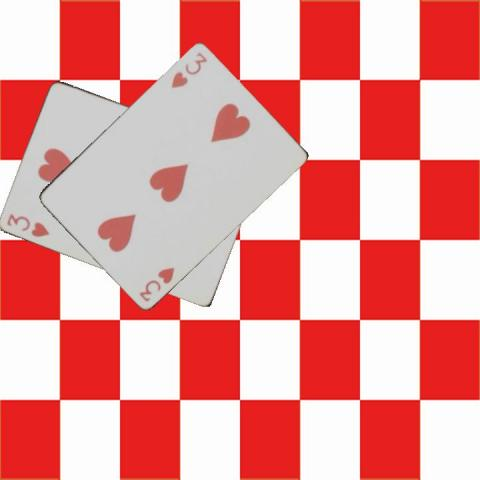3h: (168, 49, 209, 89), (136, 263, 176, 303), (4, 210, 51, 238)
